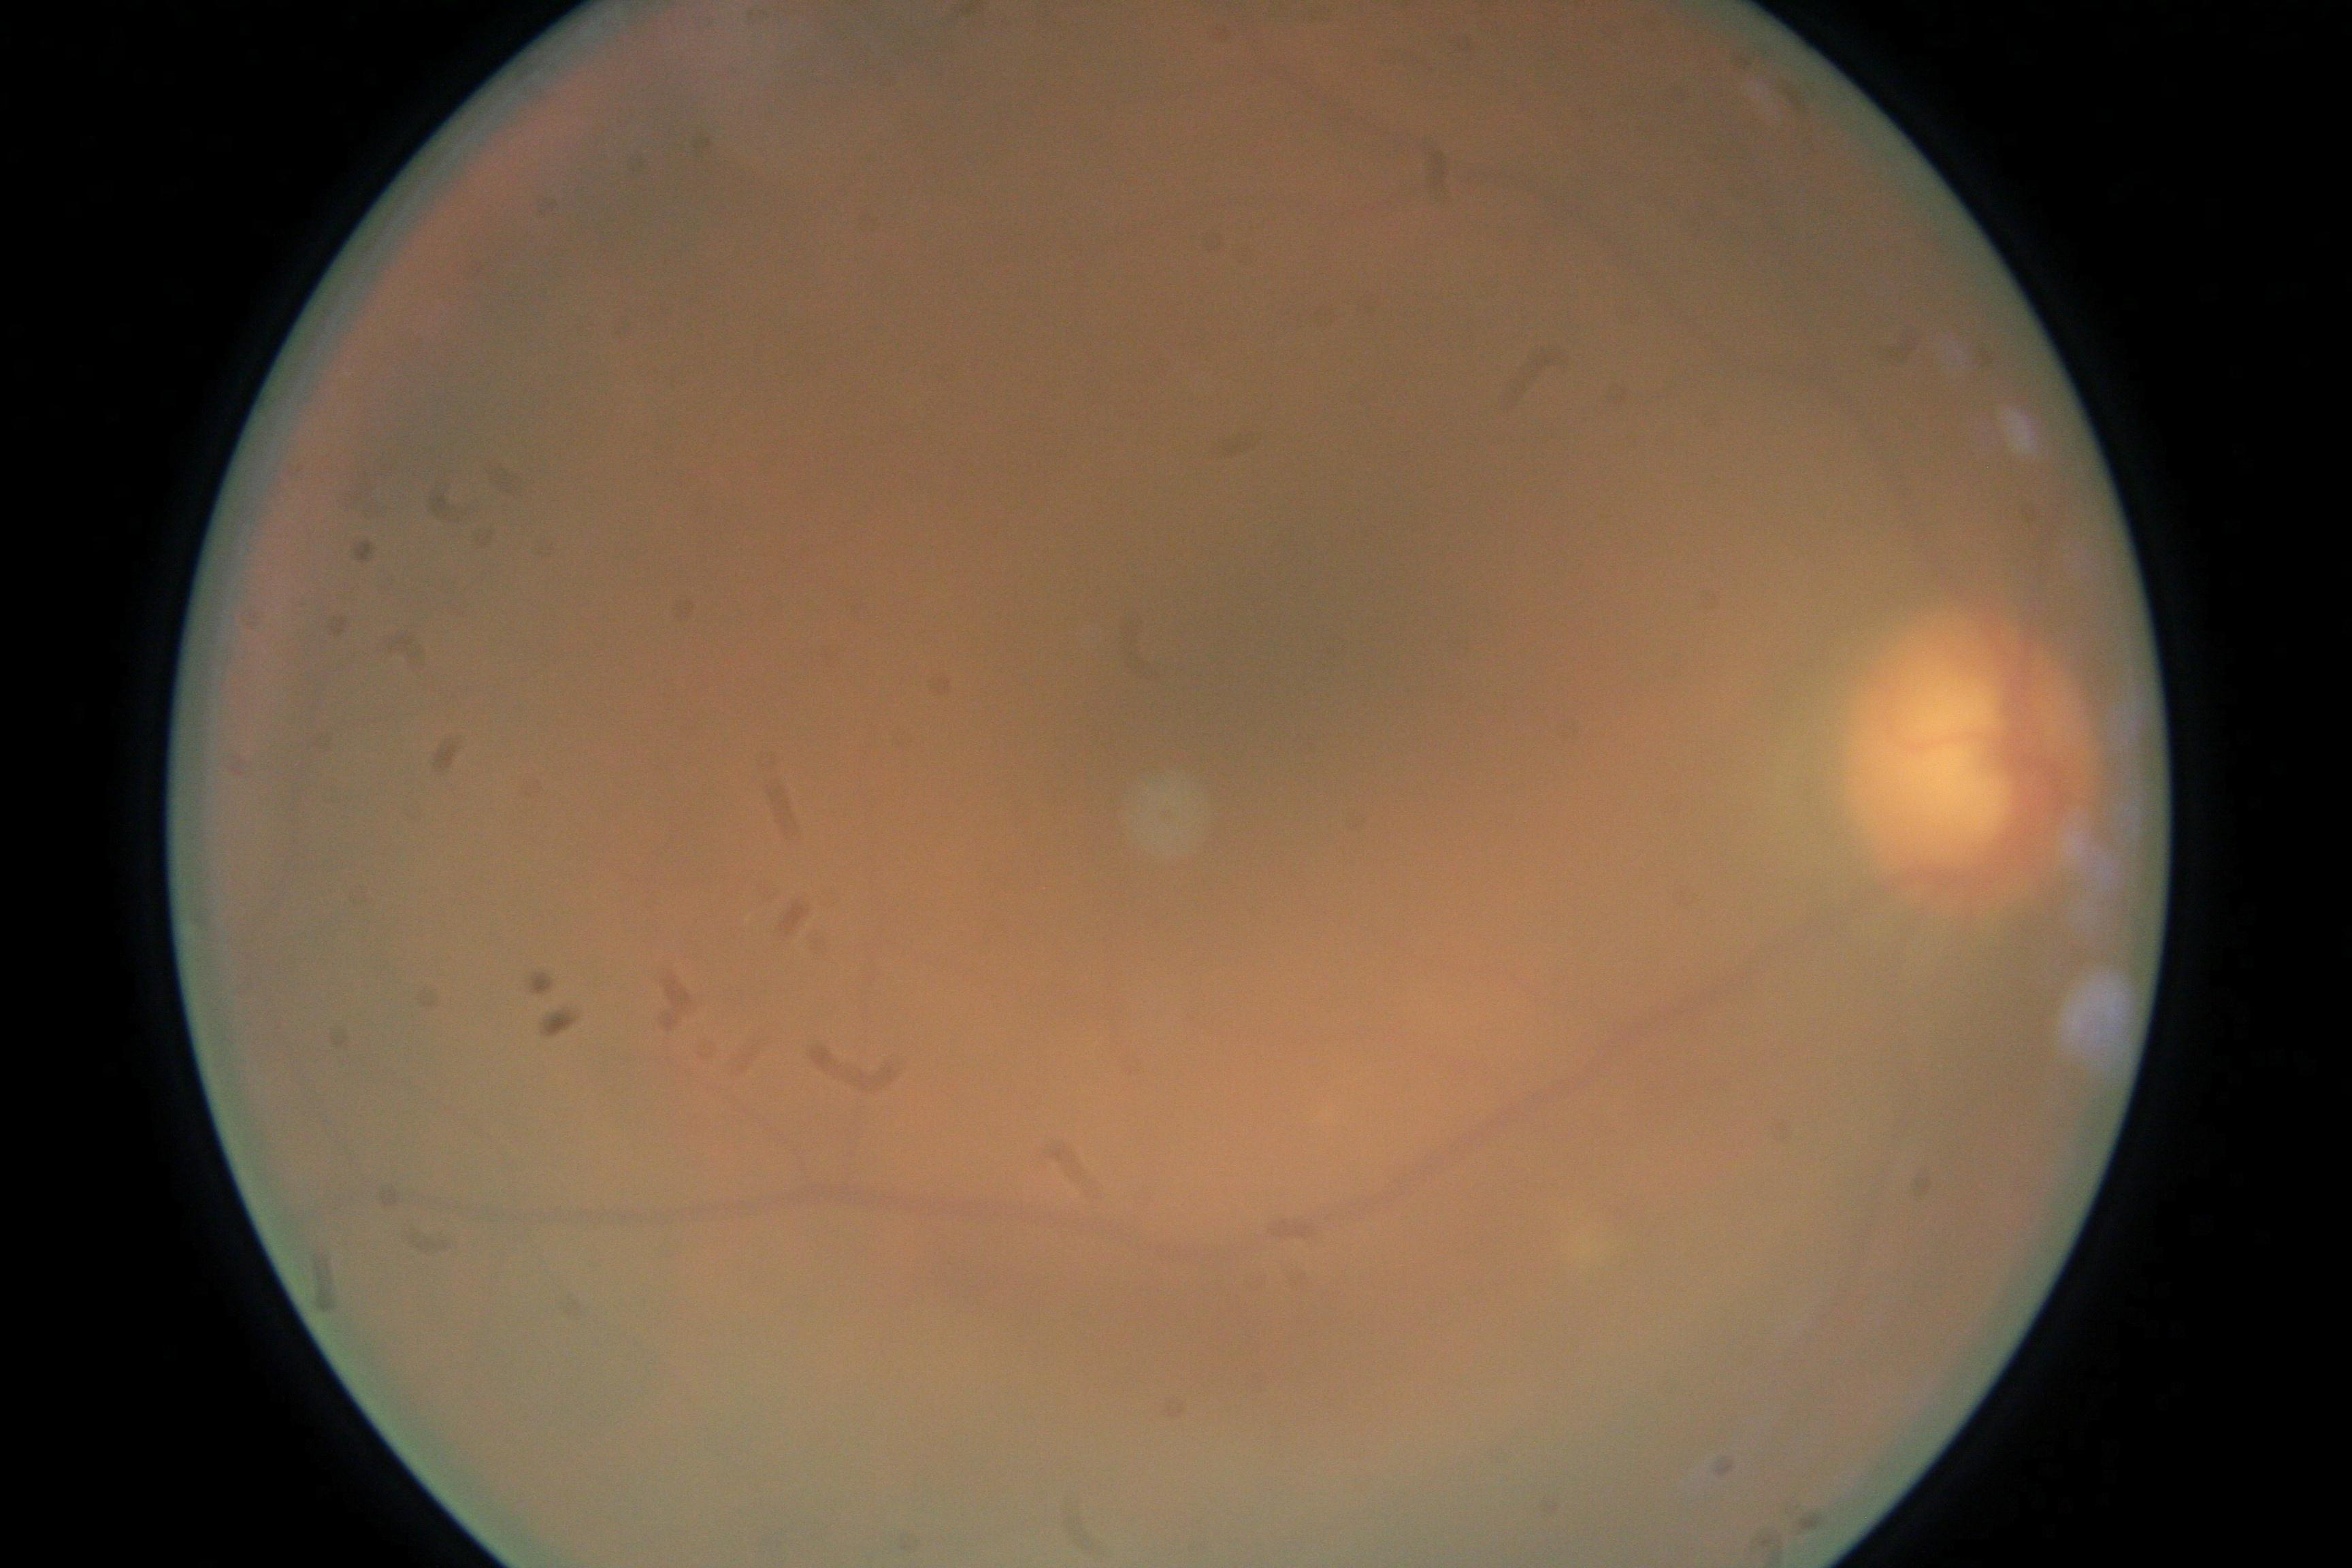Optic-nerve: (1845, 613, 2102, 927)
macula: (1139, 529, 1409, 814)
